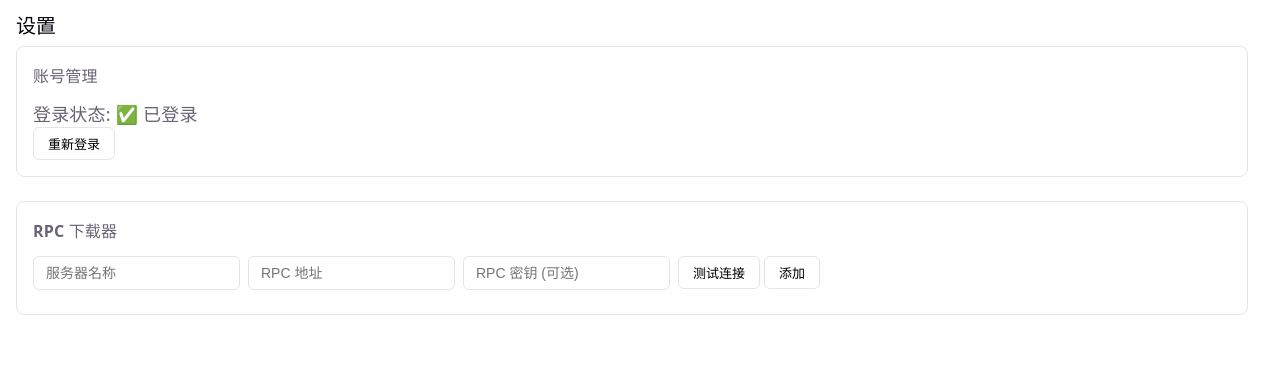
Test: Settings 组件 › 测试连接成功
Type "http://localhost:6800" into the field with test id "new-server-url".
click(352, 273); type("http://localhost:6800")  # box [248, 256, 455, 290]
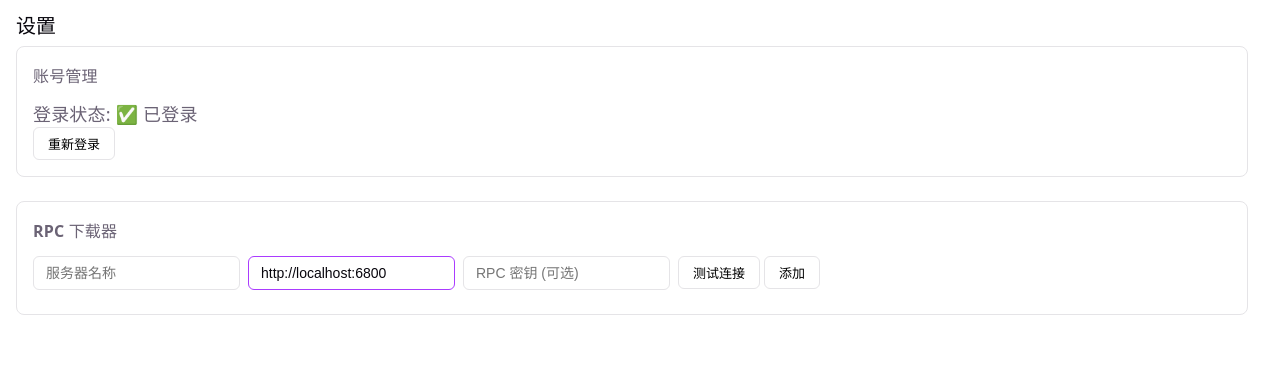
Click the button with test id "test-connection-button".
click(719, 272)  # box [678, 256, 760, 289]
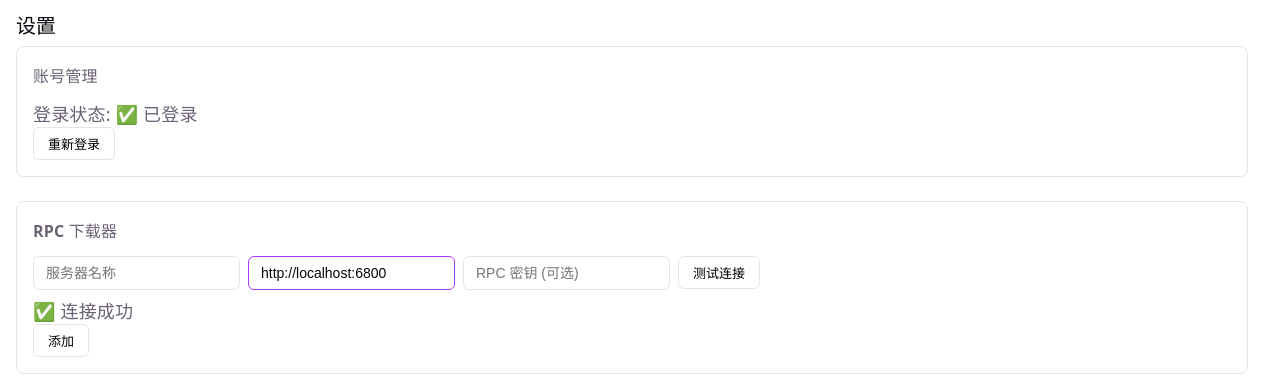
Check: the text with test id "test-connection-result" shows "连接成功", box [33, 299, 133, 323]
